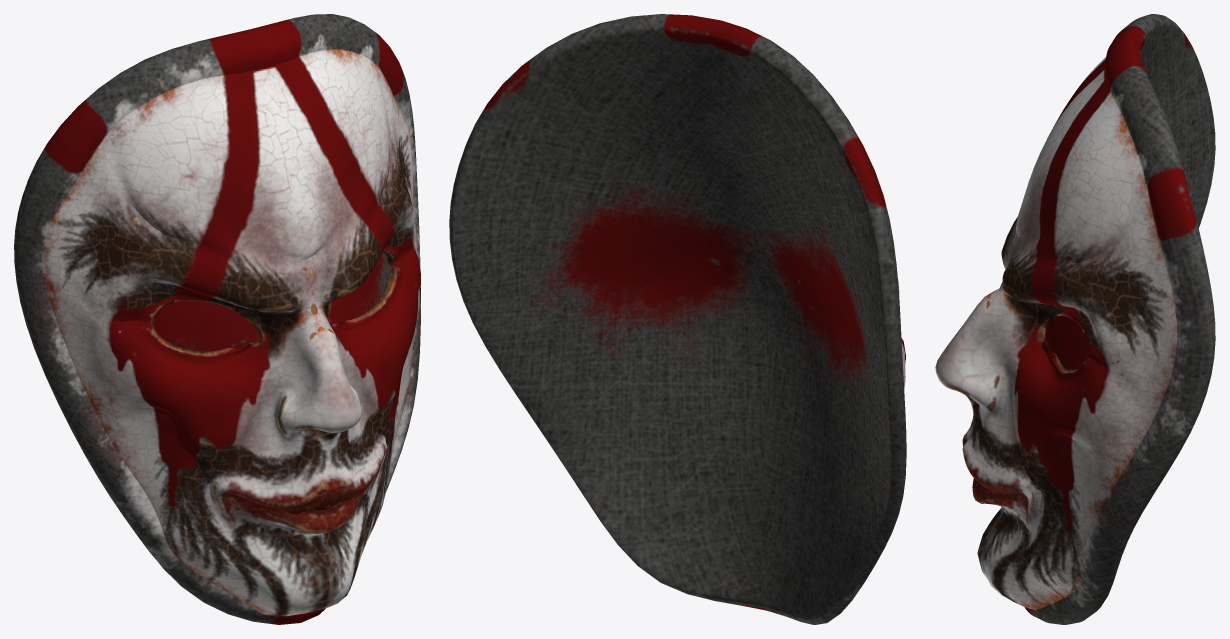
Rendered from scary_mask.glb.
The picture shows the model from 3 angles, left to right: view 1: azimuth 30°, elevation 25°; view 2: azimuth 150°, elevation 25°; view 3: azimuth 270°, elevation 25°; orthographic projection. The views are drawn at different scales.
Visible parts, largest first — view 1: mask_low_0; view 2: mask_low_0; view 3: mask_low_0.
Part boxes in pixels (left/top/right/bottom): mask_low_0: left=14, top=14, right=420, bottom=624; mask_low_0: left=449, top=14, right=906, bottom=624; mask_low_0: left=935, top=14, right=1215, bottom=624.
Bounding box in the file's own units: 1.85 × 2.48 × 1.11.
Materials: 1 (1 with a texture image).
